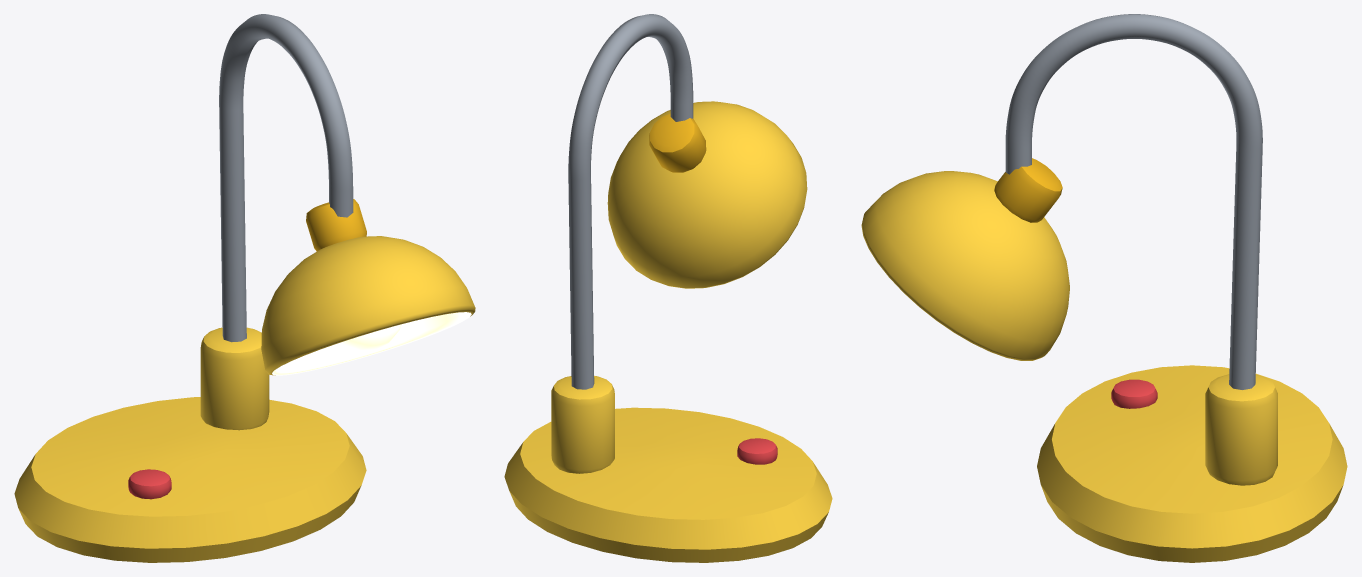
The model's file is luminaria_mesa_flexivel.glb.
3 views of the same model, side by side, from view 1: azimuth 30°, elevation 25°; view 2: azimuth 150°, elevation 25°; view 3: azimuth 270°, elevation 25° (orthographic). The views are drawn at different scales.
Parts seen in each view (by area): view 1: luminaria_mesa_flexivel; view 2: luminaria_mesa_flexivel; view 3: luminaria_mesa_flexivel.
Part boxes in pixels (<box>): luminaria_mesa_flexivel: <box>14,14,475,562</box>; luminaria_mesa_flexivel: <box>504,14,832,562</box>; luminaria_mesa_flexivel: <box>861,14,1347,562</box>.
Bounding box in the file's own units: 0.2375 × 0.3372 × 0.2942.
Materials: 2 (1 with a texture image).
